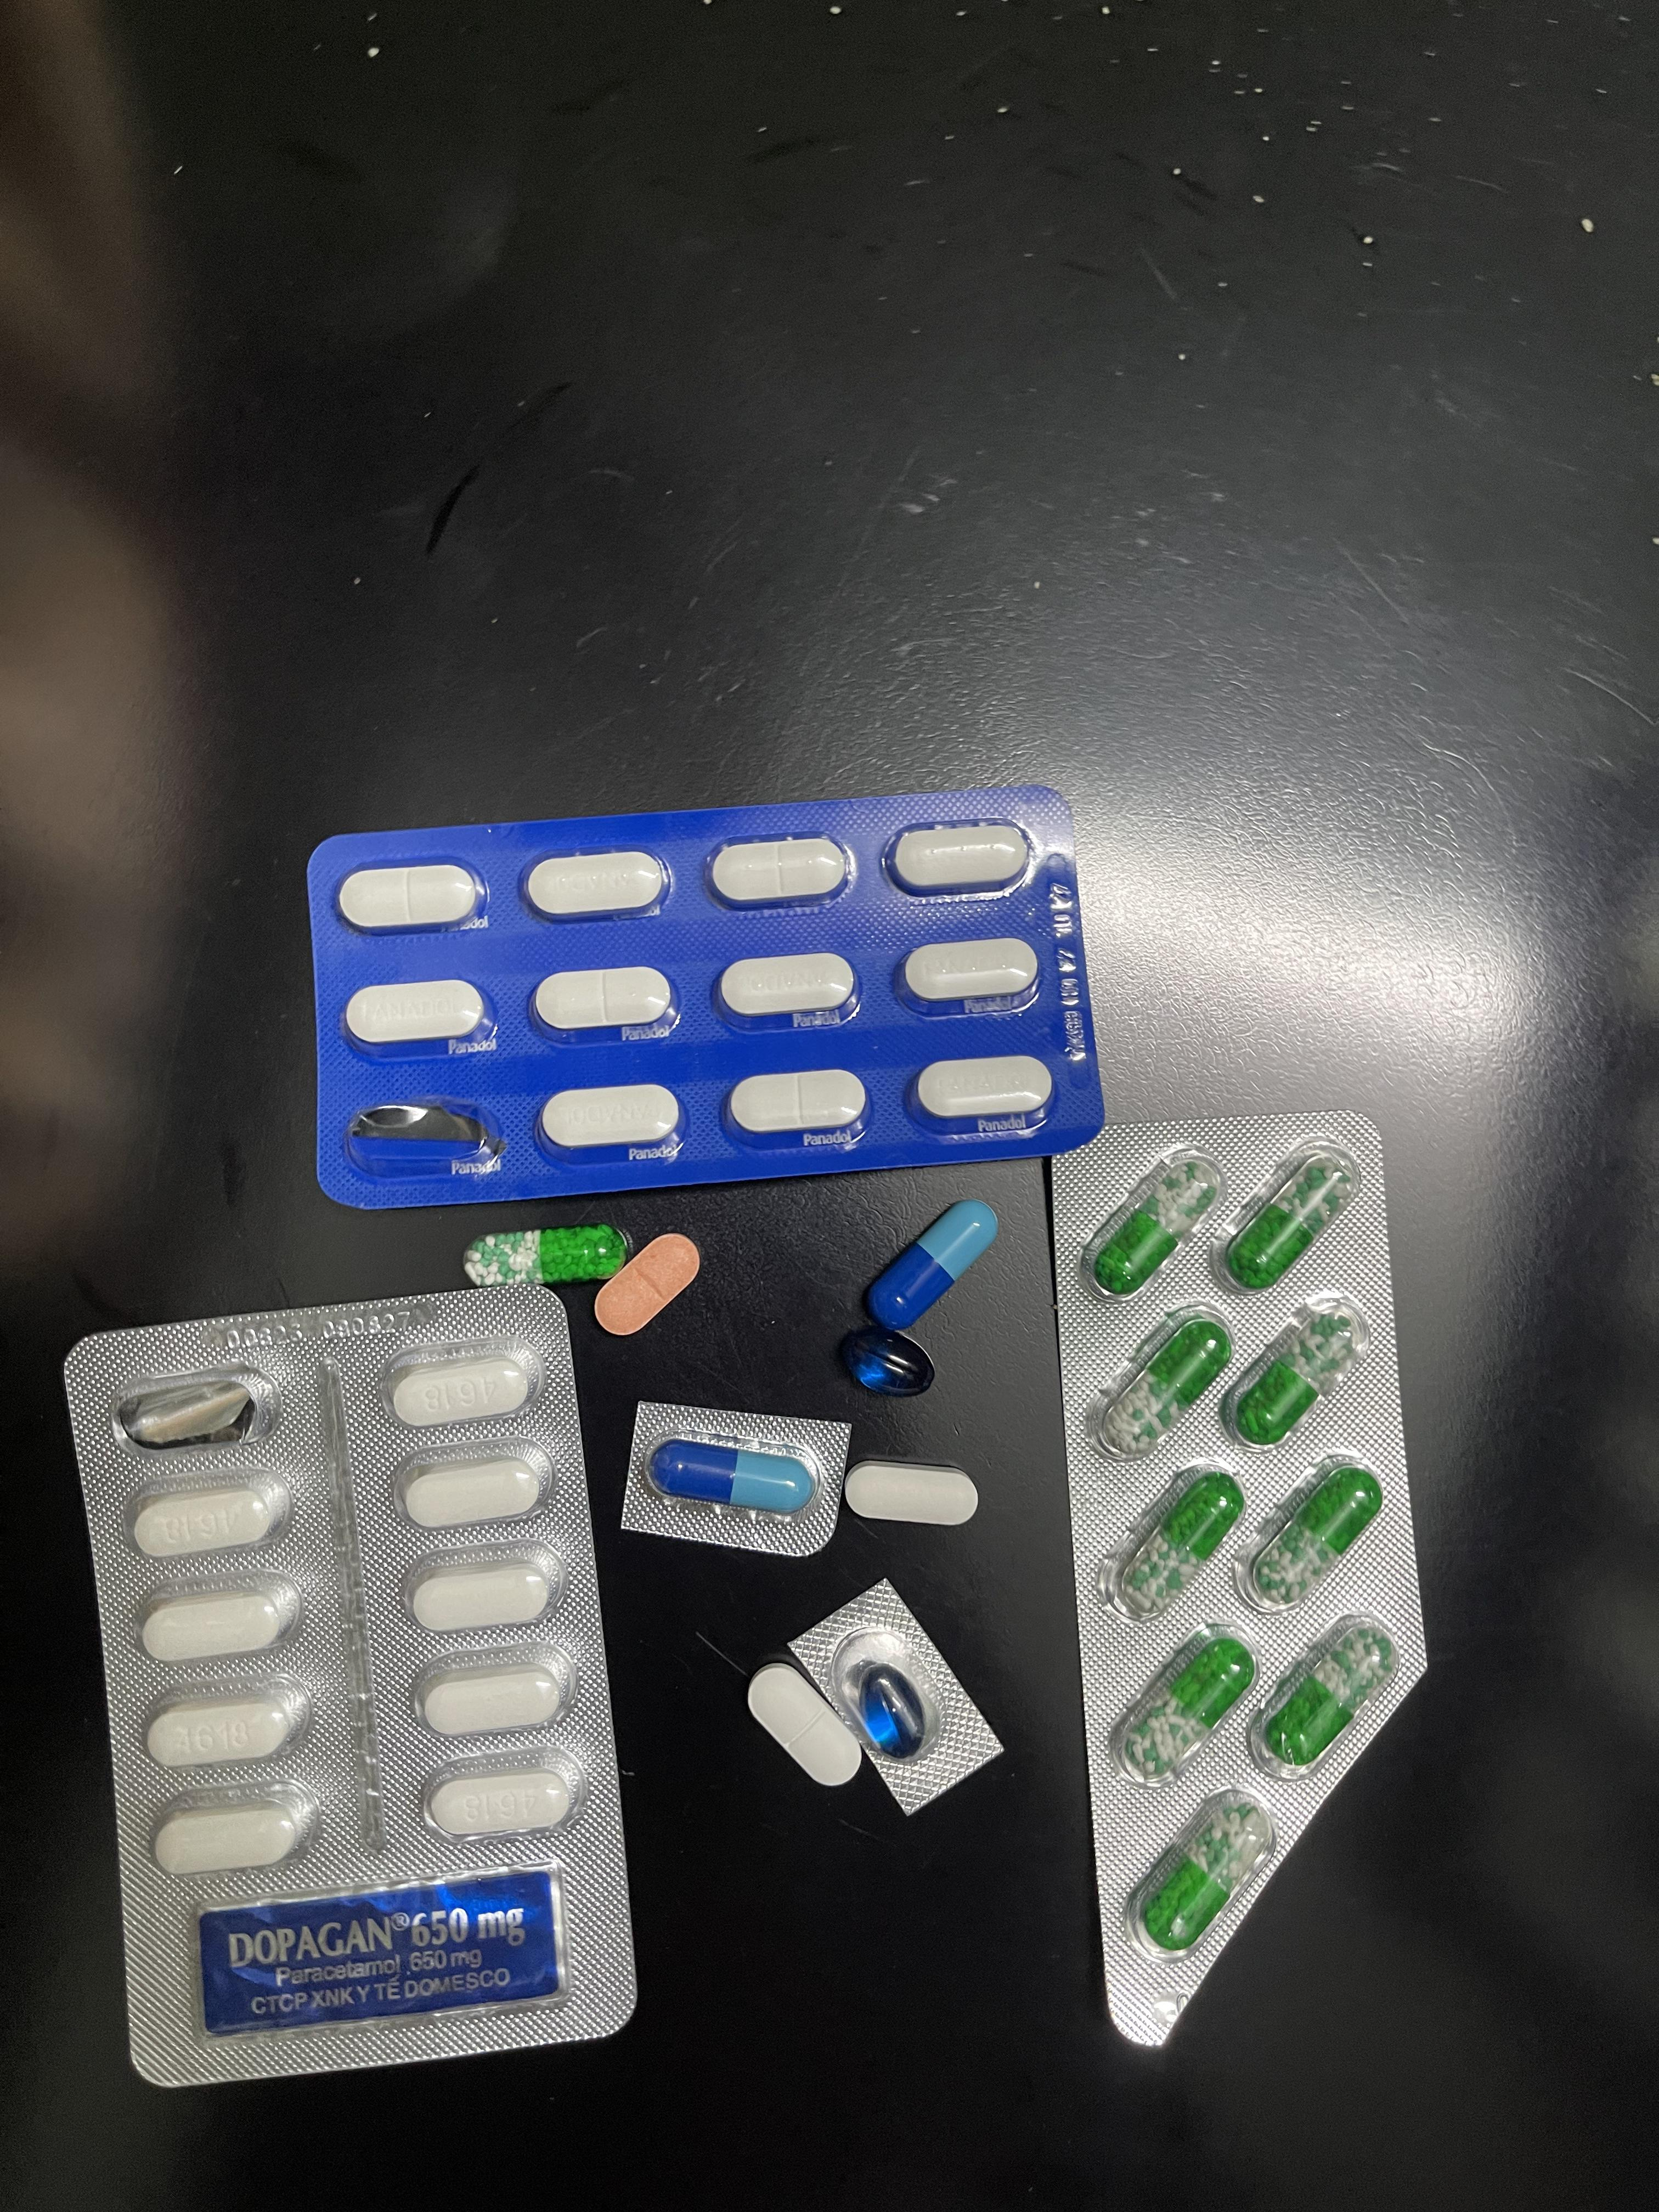Lincomyxin_500mg: (850, 1663, 931, 1761), (838, 1324, 938, 1395)
Loratadine_10mg: (591, 1230, 701, 1334)
Paracetamol_350mg: (748, 1660, 863, 1789), (706, 833, 852, 911), (885, 822, 1035, 897), (345, 979, 493, 1054), (899, 937, 1040, 1014), (540, 1085, 685, 1158), (338, 862, 483, 934), (525, 850, 669, 921), (913, 1054, 1054, 1127), (716, 951, 856, 1024), (533, 967, 676, 1036), (728, 1069, 863, 1137)
Paracetamol_500mg: (148, 1784, 319, 1879), (146, 1676, 315, 1770), (413, 1644, 577, 1737), (139, 1573, 301, 1662), (131, 1463, 295, 1550), (406, 1545, 566, 1632), (429, 1766, 575, 1838), (401, 1460, 544, 1527), (392, 1359, 532, 1426), (842, 1461, 978, 1527)
Paracetamol_650mg: (1122, 1787, 1277, 1963), (1246, 1613, 1405, 1778), (1220, 1294, 1380, 1454), (1110, 1620, 1260, 1791), (1091, 1299, 1237, 1458), (1211, 1139, 1363, 1291), (1100, 1463, 1246, 1620), (1084, 1146, 1223, 1296), (1244, 1461, 1387, 1606), (462, 1221, 631, 1287)
pill: (864, 1197, 1000, 1332), (652, 1437, 809, 1514)
